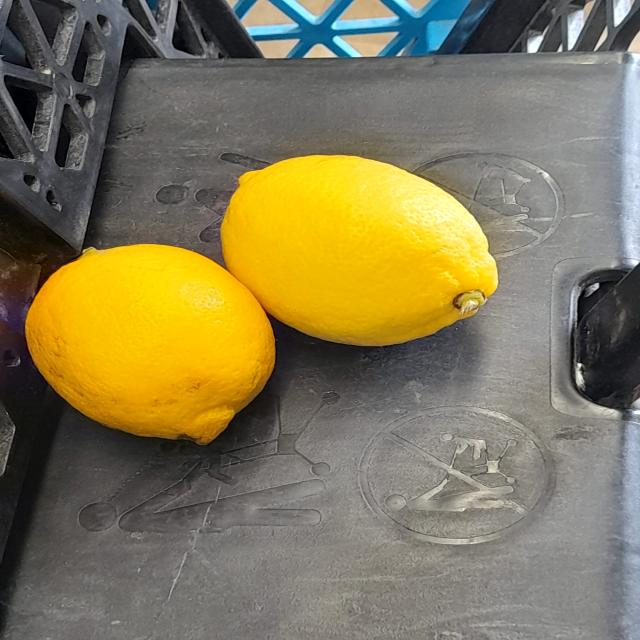lemon: (215, 153, 509, 352), (17, 234, 285, 452)
